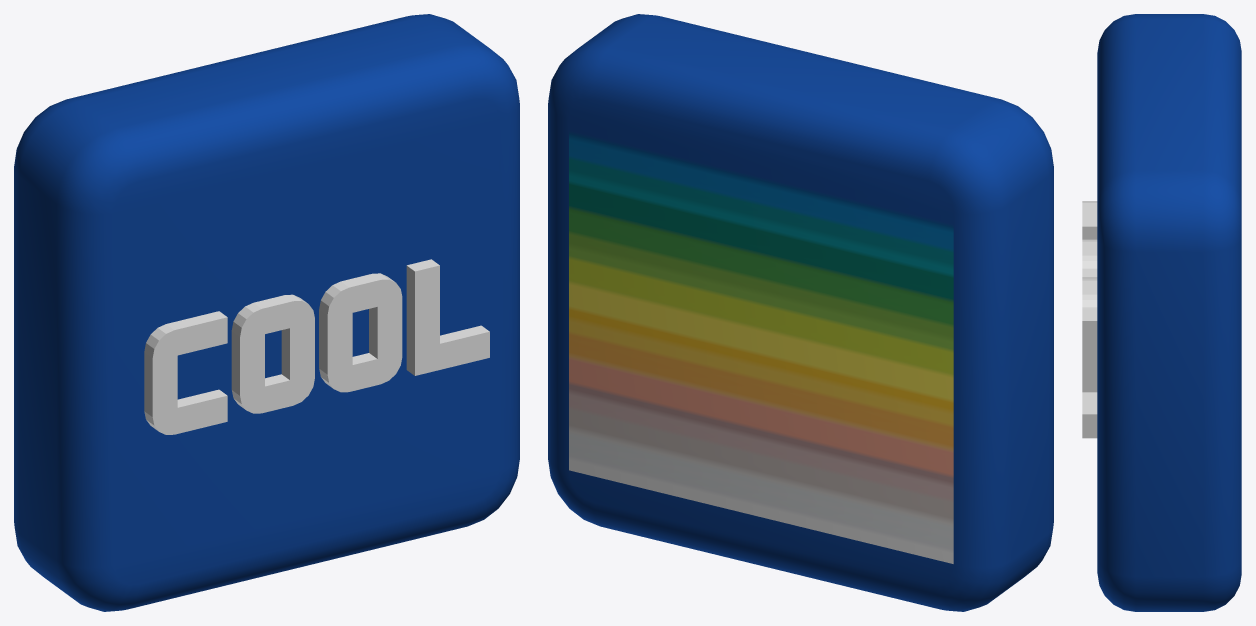
Rendered from cool_button.glb.
3 views of the same model, side by side, from view 1: azimuth 30°, elevation 25°; view 2: azimuth 150°, elevation 25°; view 3: azimuth 270°, elevation 25° (orthographic). The views are drawn at different scales.
Visible parts, largest first — view 1: Cube.6610, Cube.6611; view 2: Cube.6610; view 3: Cube.6610, Cube.6611.
Boxes of the visible parts, x1,y1,x2,y2 form: Cube.6610: [14, 14, 519, 611]; Cube.6611: [144, 259, 489, 434]; Cube.6610: [548, 14, 1053, 611]; Cube.6610: [1097, 14, 1241, 611]; Cube.6611: [1082, 201, 1097, 438].
Bounding box in the file's own units: 2.2 × 2.2 × 0.73.
1 material, 1 textured.
